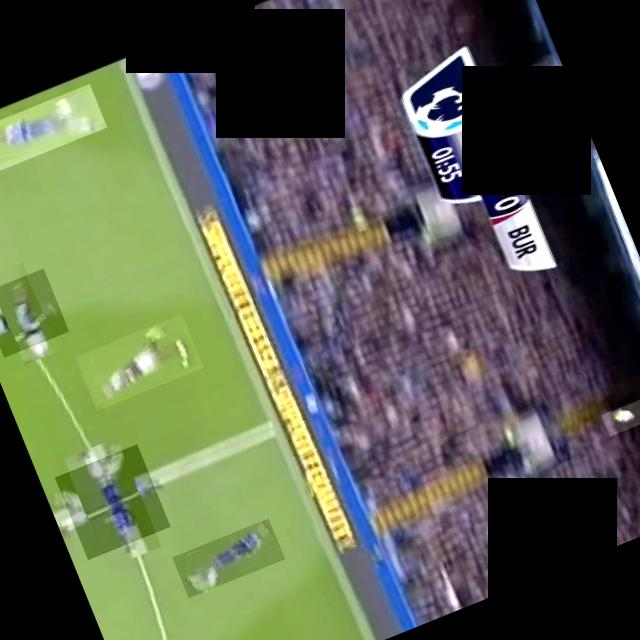ball: (600, 393, 640, 435)
soccer-player: (54, 442, 170, 558), (74, 312, 202, 410), (0, 82, 106, 173), (172, 516, 284, 596), (0, 267, 68, 356)
